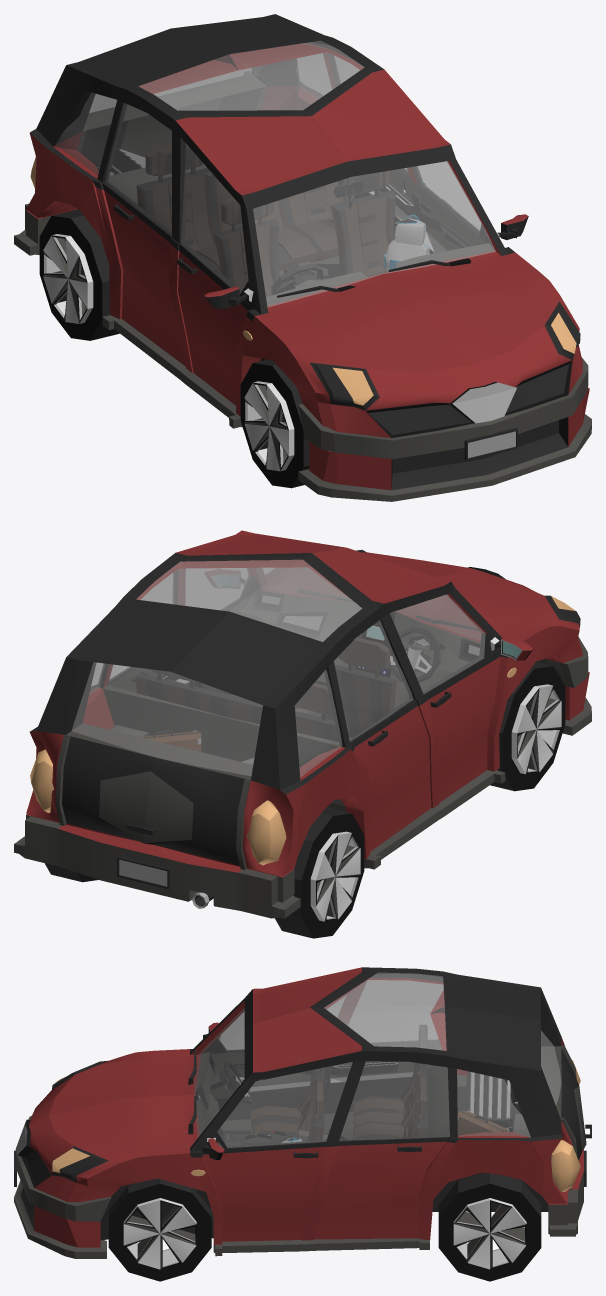
3 renders of one model, top to bottom at view 1: azimuth 30°, elevation 25°; view 2: azimuth 150°, elevation 25°; view 3: azimuth 270°, elevation 25°, orthographic. The views are drawn at different scales.
Visible parts, largest first — view 1: polySurface36; view 2: polySurface36; view 3: polySurface36.
Boxes of the visible parts, x1=… form: polySurface36: x1=14, y1=14, x2=591, y2=501; polySurface36: x1=14, y1=530, x2=591, y2=938; polySurface36: x1=14, y1=967, x2=591, y2=1281.
Size of the model in its own units: 3.18 by 2.55 by 5.97.
